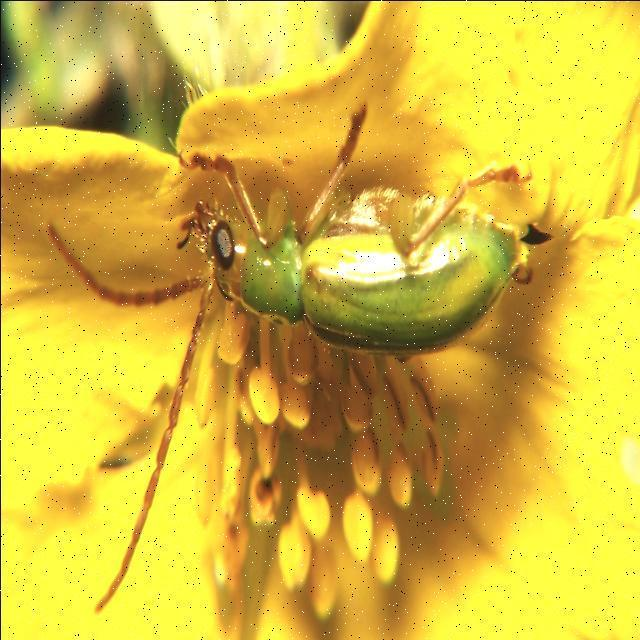gusano_gris: (99, 130, 532, 413)
